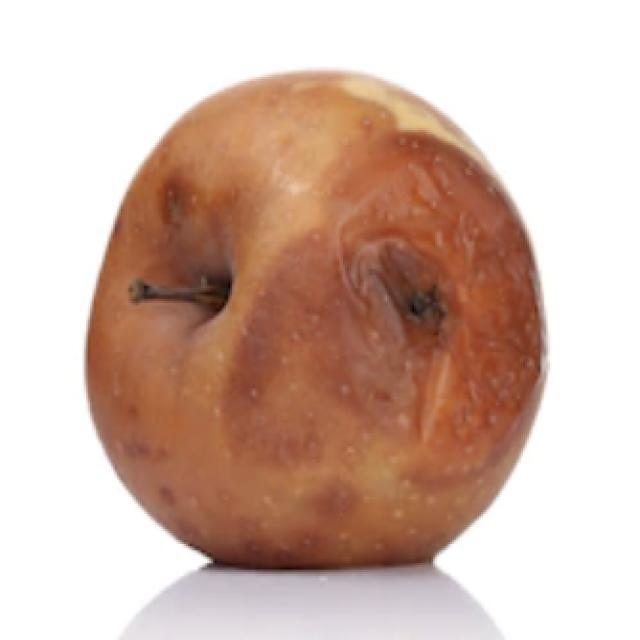Rotten: (82, 90, 525, 580)
